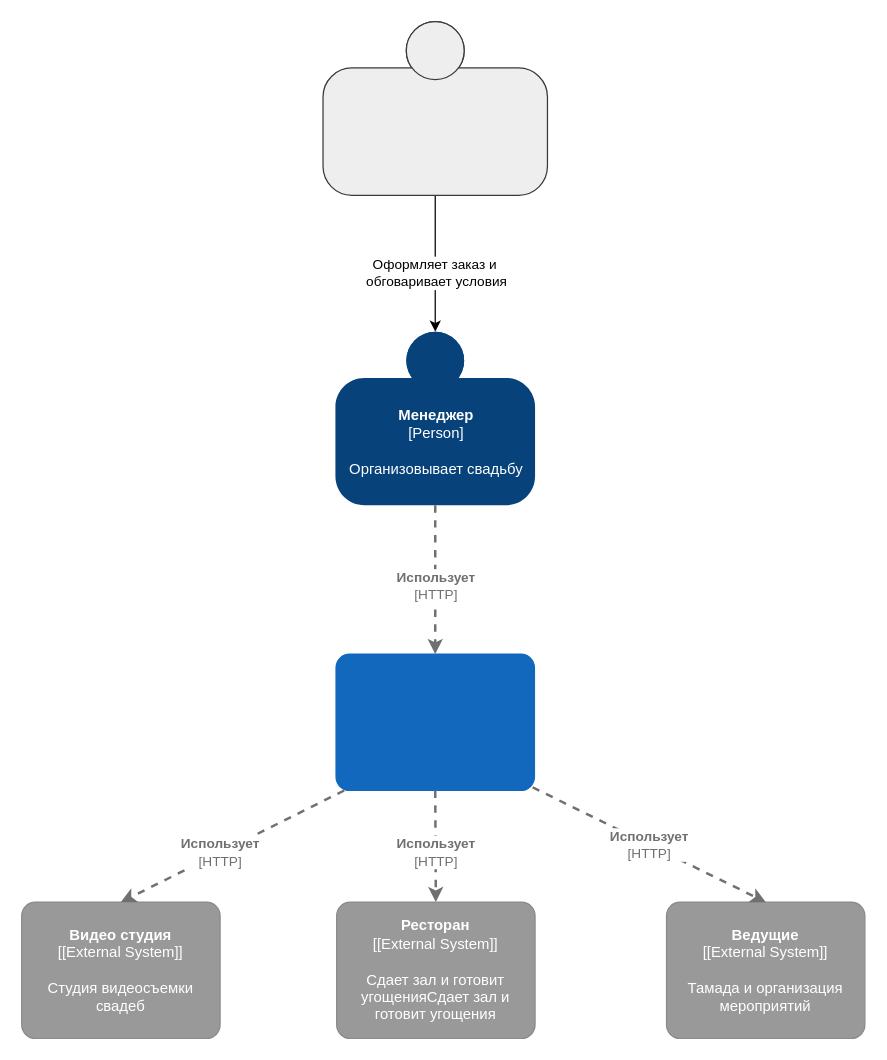
This 887x1060 diagram has some shape labels left out. The centre of each missing label's shape, as x and y in pixels:
Покупатель [[External Person]] Потенциальные молодожены: the point at 434,107
Свадебный салон [Software System] Обработка и выполнение заказа: the point at 434,721
